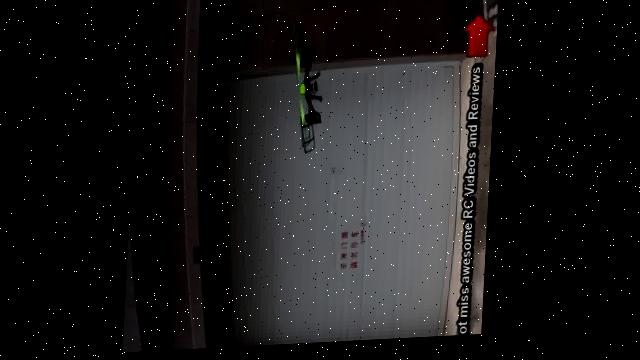drone: (274, 12, 347, 196)
